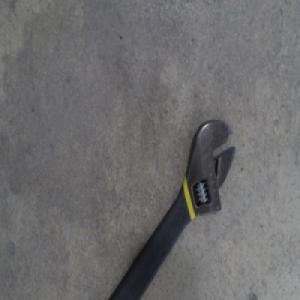AdjustableWrench: (107, 120, 237, 299)
